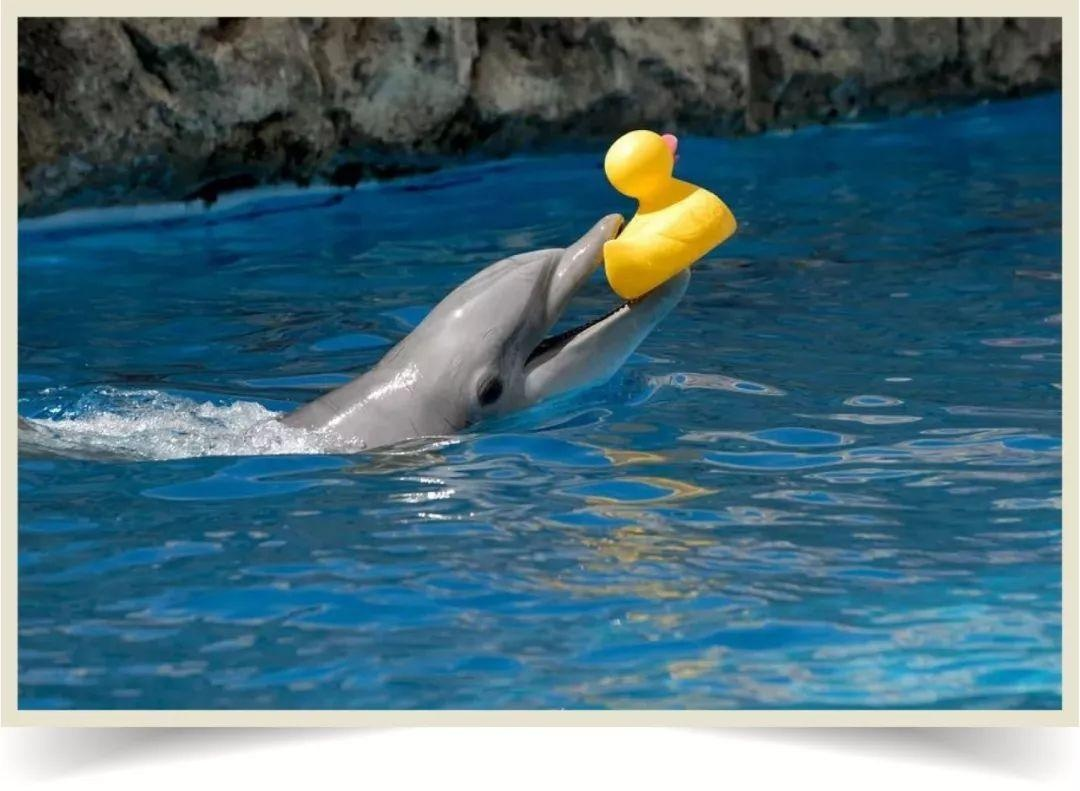fish: (129, 214, 706, 496)
